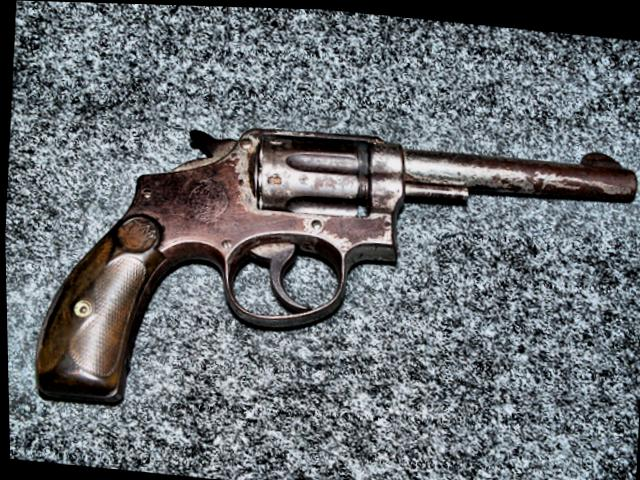pistol: (23, 93, 640, 448)
